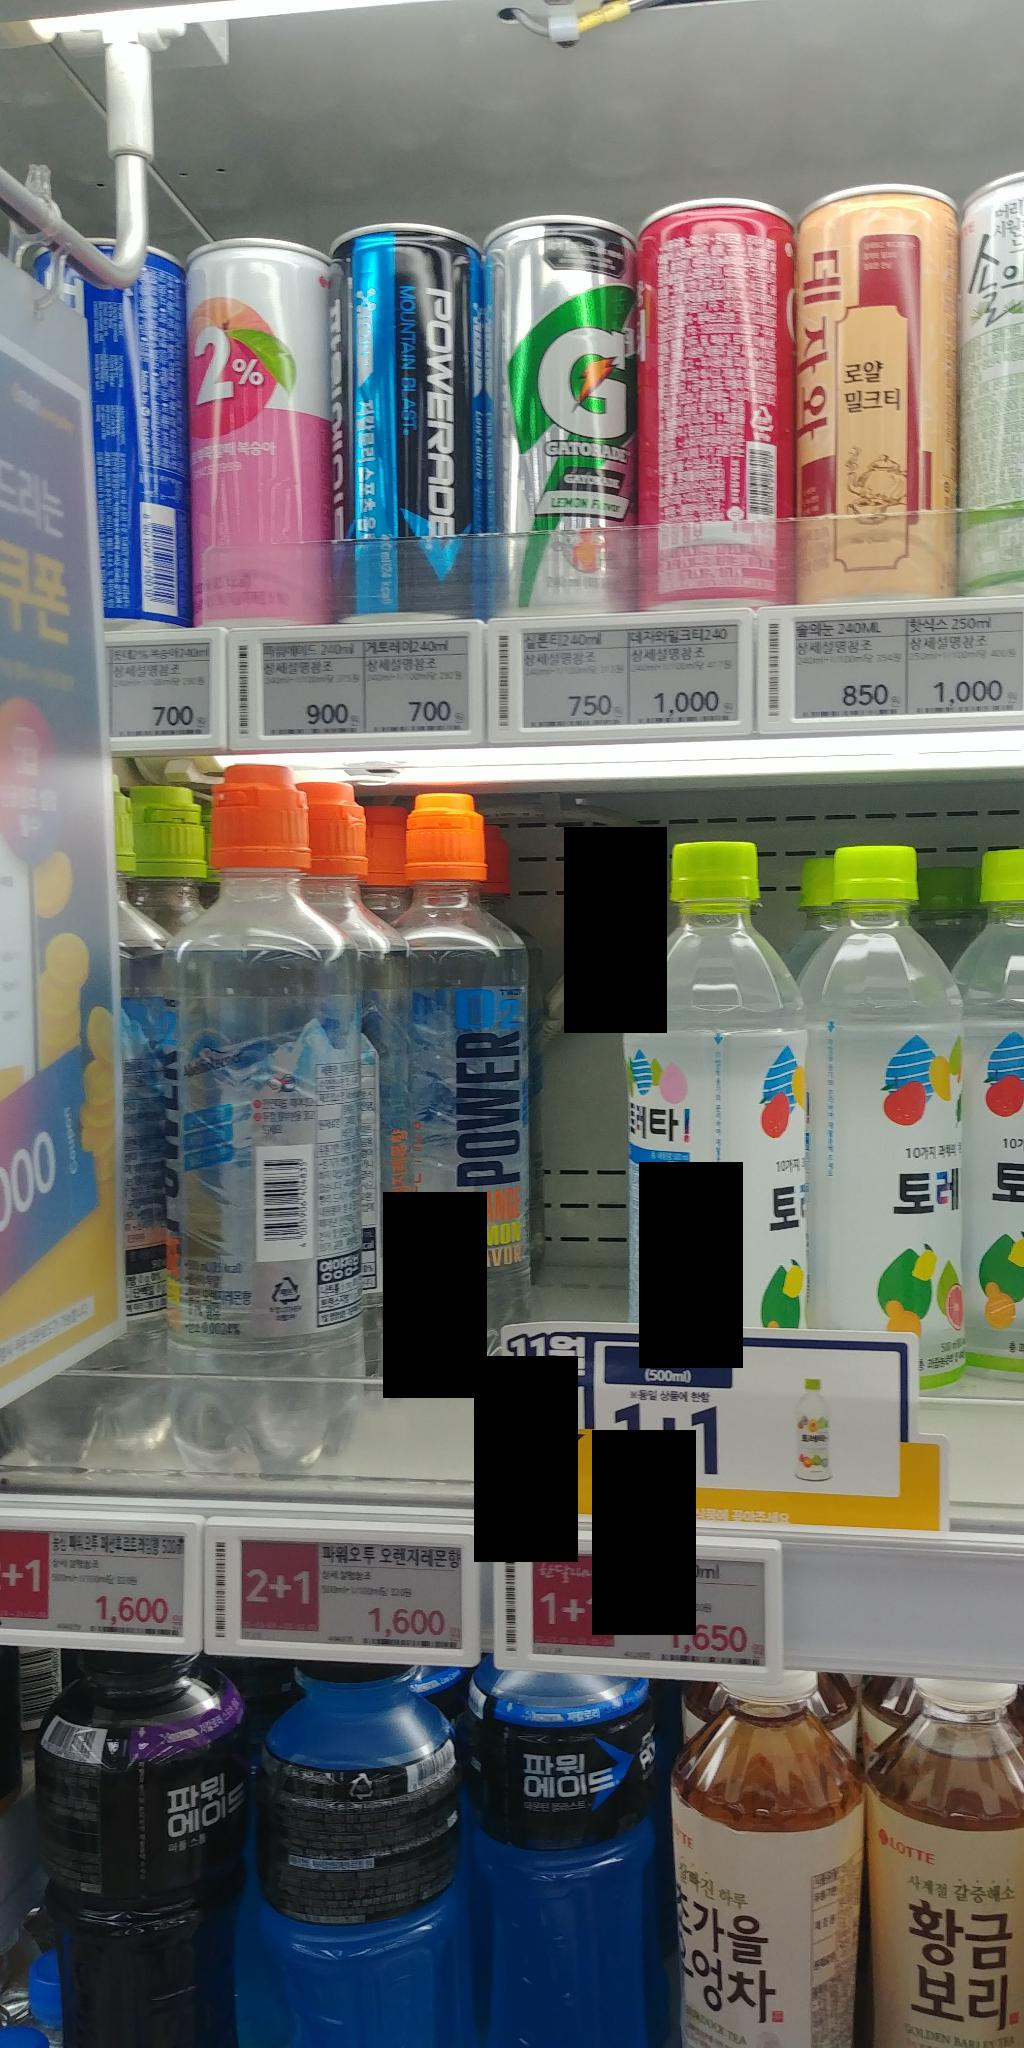powerO2_orange: (161, 756, 367, 1484), (367, 776, 538, 1392)
powerade_mountainblast: (247, 1659, 473, 2047), (461, 1644, 665, 2048)
toreta: (620, 818, 808, 1330), (801, 839, 961, 1387)
